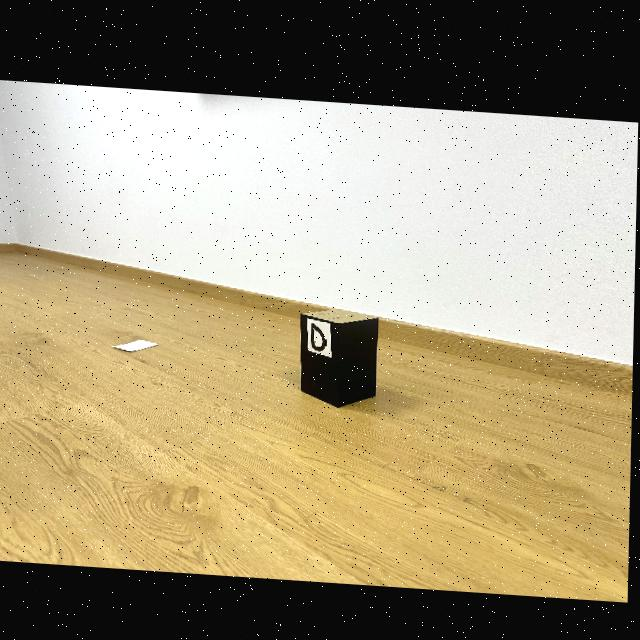D: (313, 318, 327, 347)
